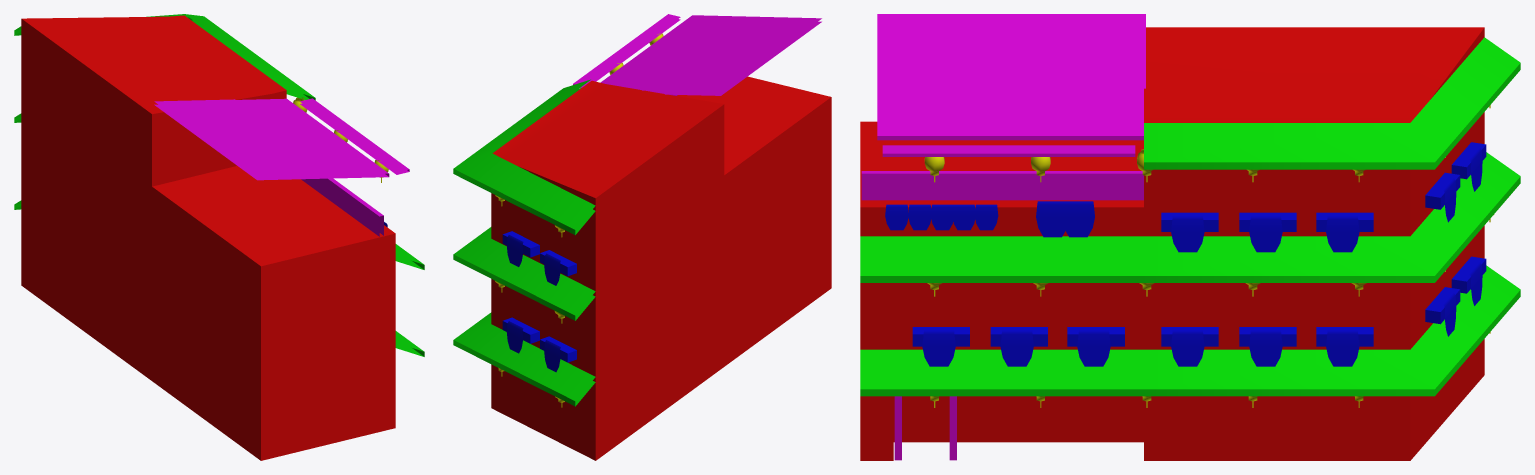
File: kyuHun_Model.fbx
The picture shows the model from 3 angles, left to right: view 1: azimuth 30°, elevation 25°; view 2: azimuth 150°, elevation 25°; view 3: azimuth 270°, elevation 25°; orthographic projection. The views are drawn at different scales.
Visible parts, largest first — view 1: KyuHun_Model; view 2: KyuHun_Model; view 3: KyuHun_Model.
Boxes of the visible parts, left/top/right/bottom form: KyuHun_Model: left=14, top=14, right=424, bottom=460; KyuHun_Model: left=453, top=14, right=831, bottom=460; KyuHun_Model: left=860, top=14, right=1520, bottom=460.
Size of the model in its own units: 574 by 940 by 1540.
